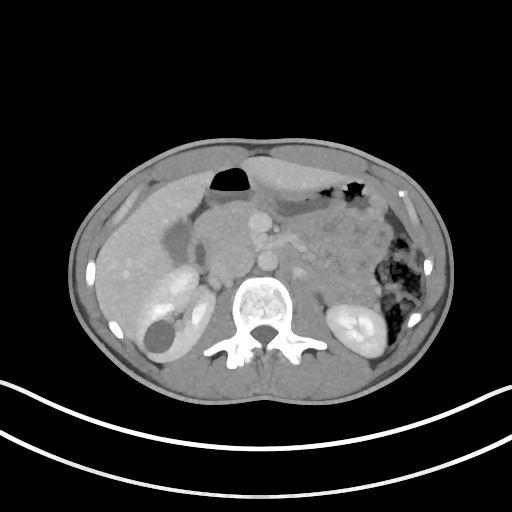Lesion: (140, 312, 177, 356)
